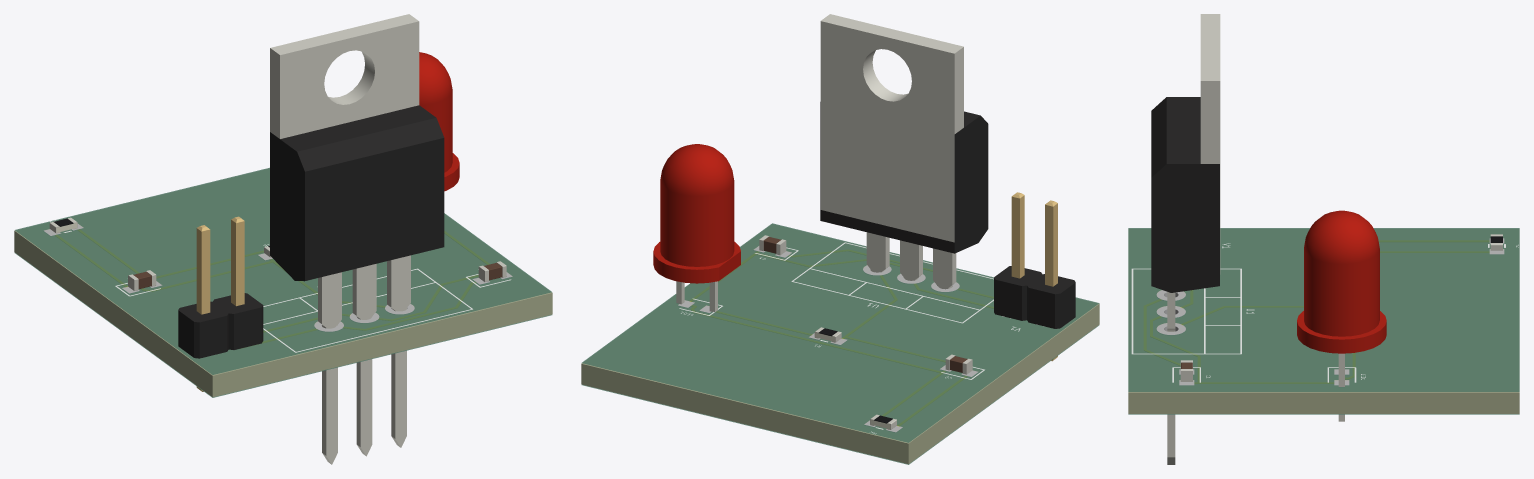
The model's file is regulator-5v.glb.
The picture shows the model from 3 angles, left to right: view 1: azimuth 30°, elevation 25°; view 2: azimuth 150°, elevation 25°; view 3: azimuth 270°, elevation 25°; orthographic projection. The views are drawn at different scales.
Visible parts, largest first — view 1: =>[0:1:1:5], =>[0:1:1:17], =>[0:1:1:15], =>[0:1:1:11], =>[0:1:1:3], =>[0:1:1:12], =>[0:1:1:14], =>[0:1:1:13], =>[0:1:1:16]; view 2: =>[0:1:1:17], =>[0:1:1:15], =>[0:1:1:5], =>[0:1:1:3], =>[0:1:1:11], =>[0:1:1:12], =>[0:1:1:14], =>[0:1:1:13], =>[0:1:1:16]; view 3: =>[0:1:1:17], =>[0:1:1:15], =>[0:1:1:5], =>[0:1:1:3], =>[0:1:1:14], =>[0:1:1:13], =>[0:1:1:12].
Boxes of the visible parts, bbox=[...] form: =>[0:1:1:5]: bbox=[270, 14, 444, 464]; =>[0:1:1:17]: bbox=[14, 169, 552, 397]; =>[0:1:1:15]: bbox=[15, 167, 552, 374]; =>[0:1:1:11]: bbox=[178, 216, 263, 391]; =>[0:1:1:3]: bbox=[419, 52, 459, 191]; =>[0:1:1:12]: bbox=[55, 230, 488, 342]; =>[0:1:1:14]: bbox=[49, 220, 511, 352]; =>[0:1:1:13]: bbox=[44, 224, 512, 331]; =>[0:1:1:16]: bbox=[15, 253, 551, 397]; =>[0:1:1:17]: bbox=[581, 224, 1099, 464]; =>[0:1:1:15]: bbox=[582, 223, 1099, 442]; =>[0:1:1:5]: bbox=[820, 14, 988, 289]; =>[0:1:1:3]: bbox=[653, 144, 740, 312]; =>[0:1:1:11]: bbox=[994, 192, 1075, 361]; =>[0:1:1:12]: bbox=[690, 250, 993, 426]; =>[0:1:1:14]: bbox=[679, 242, 1043, 434]; =>[0:1:1:13]: bbox=[678, 246, 978, 432]; =>[0:1:1:16]: bbox=[582, 325, 1099, 464]; =>[0:1:1:17]: bbox=[1128, 229, 1519, 413]; =>[0:1:1:15]: bbox=[1128, 228, 1519, 391]; =>[0:1:1:5]: bbox=[1151, 14, 1220, 464]; =>[0:1:1:3]: bbox=[1297, 210, 1386, 421]; =>[0:1:1:14]: bbox=[1131, 243, 1518, 382]; =>[0:1:1:13]: bbox=[1156, 238, 1504, 385]; =>[0:1:1:12]: bbox=[1144, 241, 1488, 383].
Bounding box in the file's own units: 0.0257 × 0.0285 × 0.0253.
